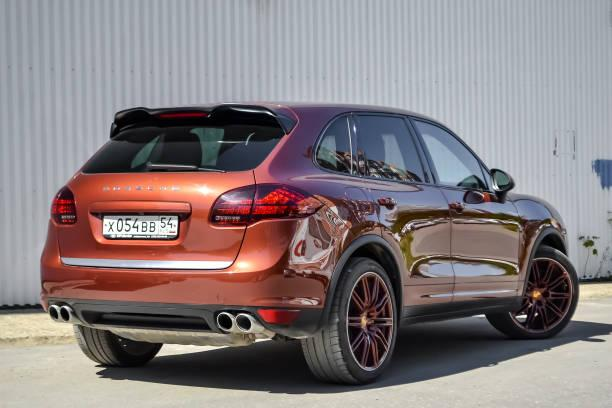porsche: (96, 181, 186, 197)
